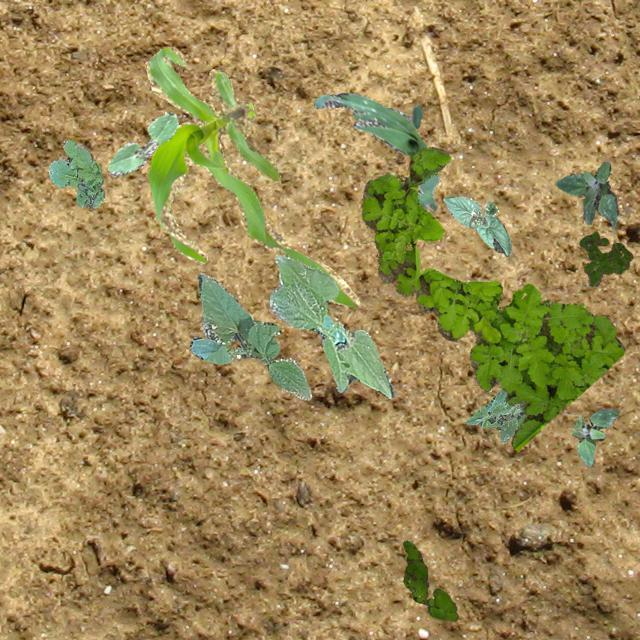crop: (146, 46, 358, 306), (268, 253, 394, 398), (188, 272, 310, 398), (312, 92, 438, 210), (106, 110, 178, 176), (442, 196, 510, 256)
weed: (361, 146, 624, 450), (402, 540, 458, 620), (554, 160, 618, 228), (48, 138, 104, 208), (464, 388, 526, 442), (578, 230, 632, 286), (570, 408, 618, 464)
